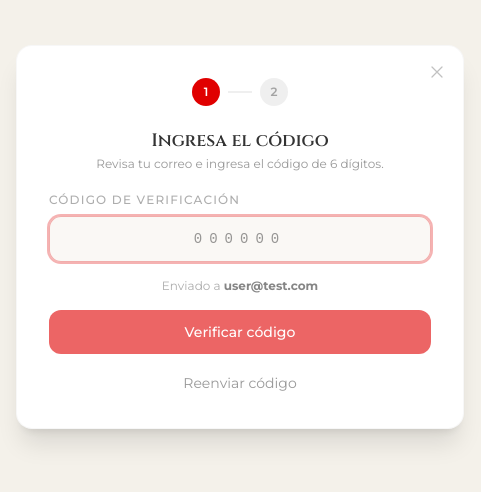
Test: PasswordResetModal › shows error on invalid code
Type "999999" into the field with placeholder "000000" at (240, 239), box top-left (49, 216), bottom-right (431, 262)
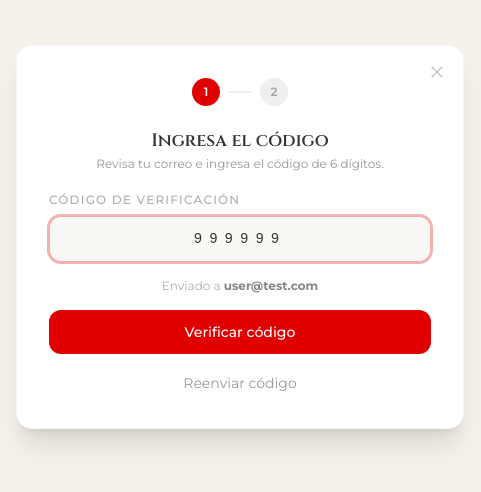
Submit the form with placeholder "000000", box top-left (49, 192), bottom-right (431, 396)
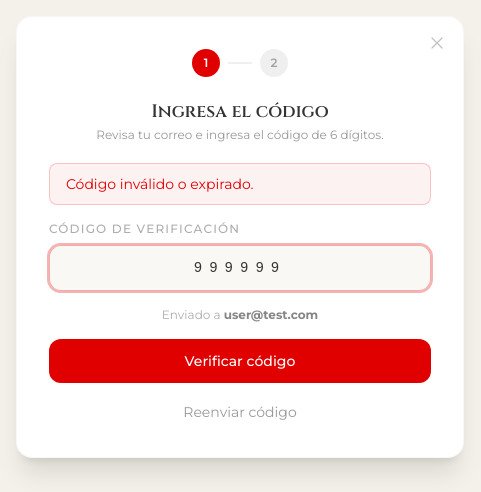
Expected: the text "Código inválido o expirado." is shown, top-left (66, 175), bottom-right (254, 193)
